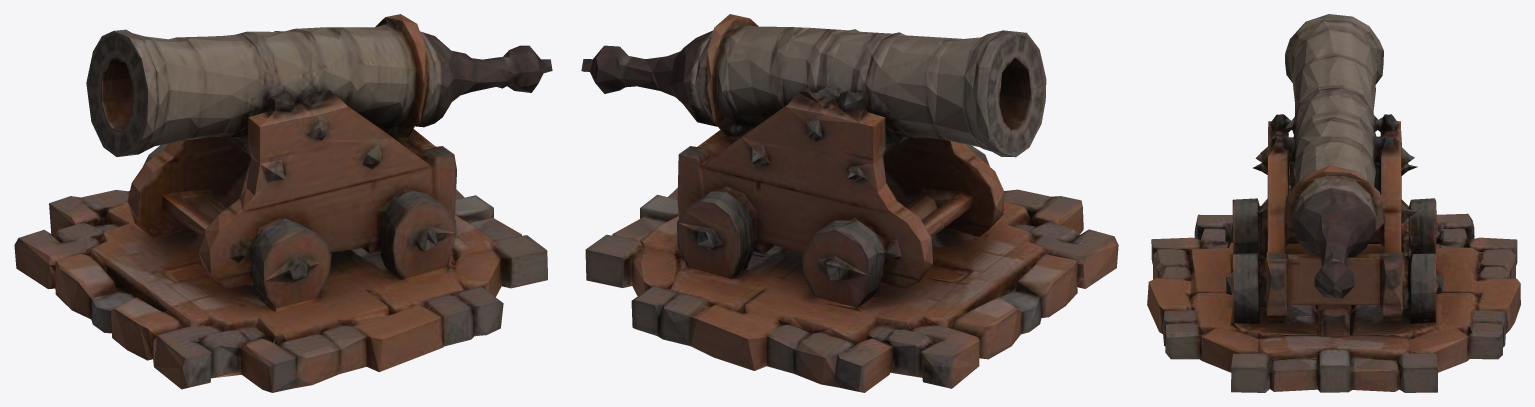
File: cannon_wooden_lod0.glb
3 renders of one model, left to right at view 1: azimuth 30°, elevation 25°; view 2: azimuth 150°, elevation 25°; view 3: azimuth 270°, elevation 25°, orthographic. The views are drawn at different scales.
Parts seen in each view (by area): view 1: cannon_wooden_lod0; view 2: cannon_wooden_lod0; view 3: cannon_wooden_lod0.
Part boxes in pixels (x1,y1,x2,y2): cannon_wooden_lod0: [14, 14, 552, 392]; cannon_wooden_lod0: [581, 14, 1118, 392]; cannon_wooden_lod0: [1147, 14, 1520, 392].
Bounding box in the file's own units: 2.5 × 1.51 × 2.17.
Materials: 1 (1 with a texture image).
